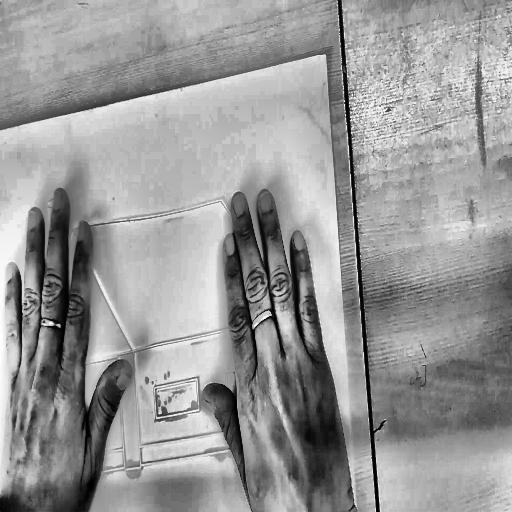house: (1, 136, 311, 498)
top_right: (321, 48, 329, 62)
